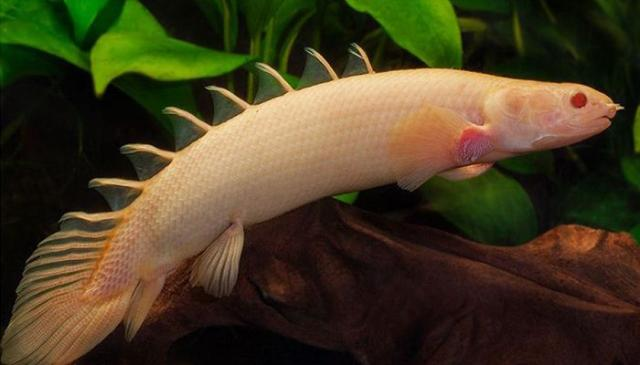Mulut: (579, 90, 629, 146)
Sirip Anal: (111, 271, 177, 345)
Sirip Dada: (383, 98, 495, 196)
Sirip Ekor: (1, 204, 146, 365)
Sirip Perut: (185, 212, 255, 308)
Sirip Punggung: (68, 38, 384, 228)
